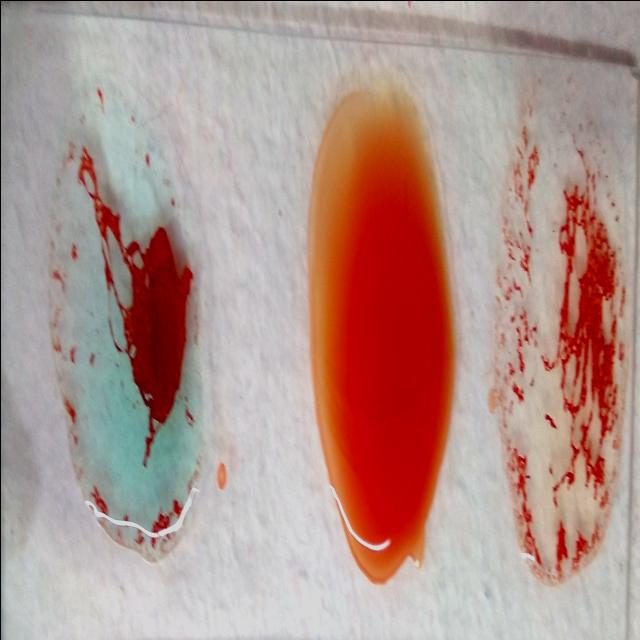A: (46, 89, 200, 540)
D: (490, 103, 624, 581)
